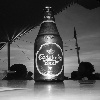beer: (32, 5, 68, 83)
